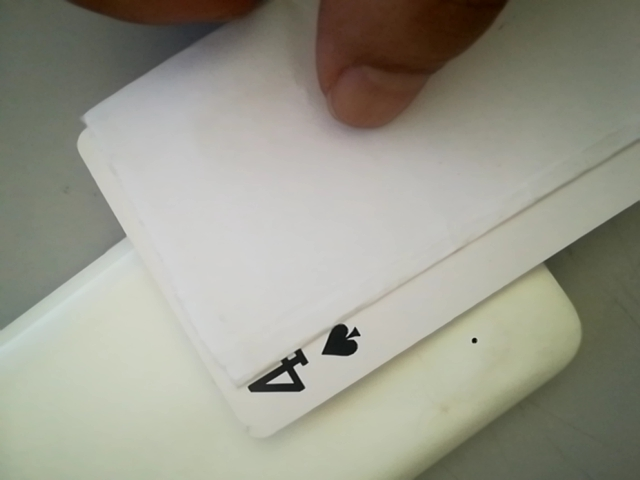ht 4: (240, 315, 382, 408)
